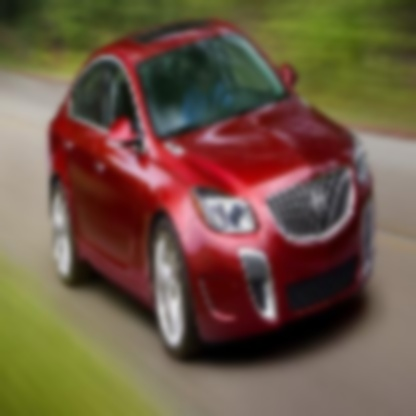Vehicle: (48, 18, 376, 365)
